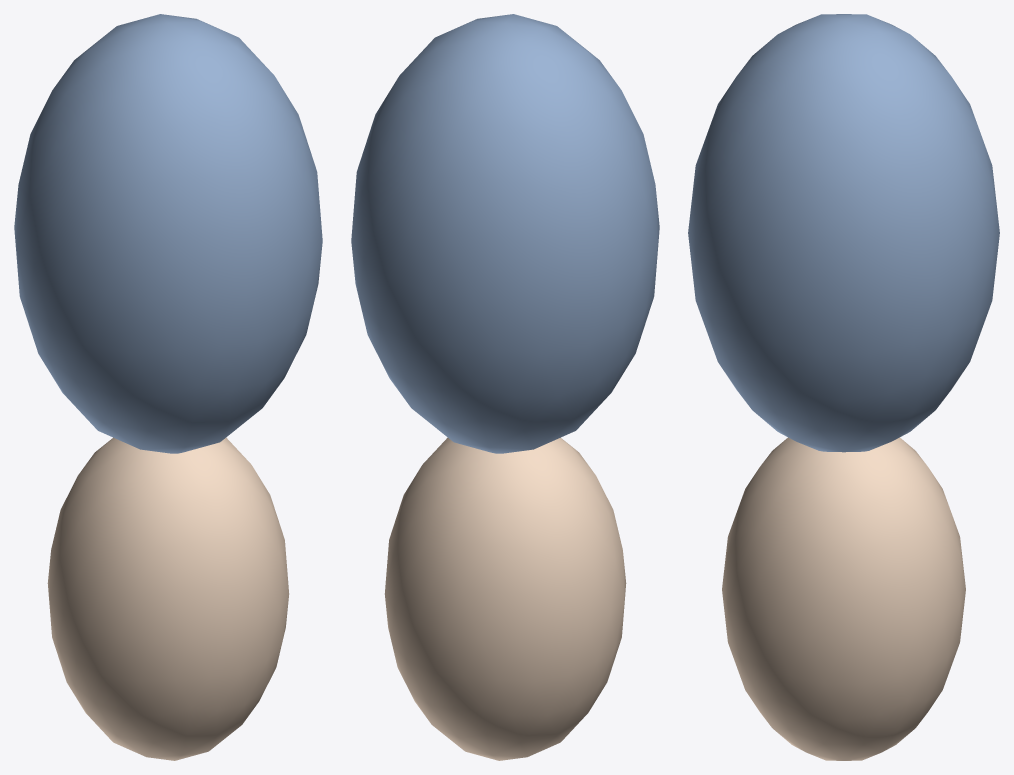
Rendered from PersonArm.fbx.
3 views of the same model, side by side, from view 1: azimuth 30°, elevation 25°; view 2: azimuth 150°, elevation 25°; view 3: azimuth 270°, elevation 25° (orthographic).
Visible parts, largest first — view 1: PersonArm; view 2: PersonArm; view 3: PersonArm.
Part boxes in pixels (x1,y1,x2,y2): PersonArm: (14,14,322,760); PersonArm: (351,14,659,760); PersonArm: (688,14,999,760).
Bounding box in the file's own units: 23 × 59.75 × 23.
